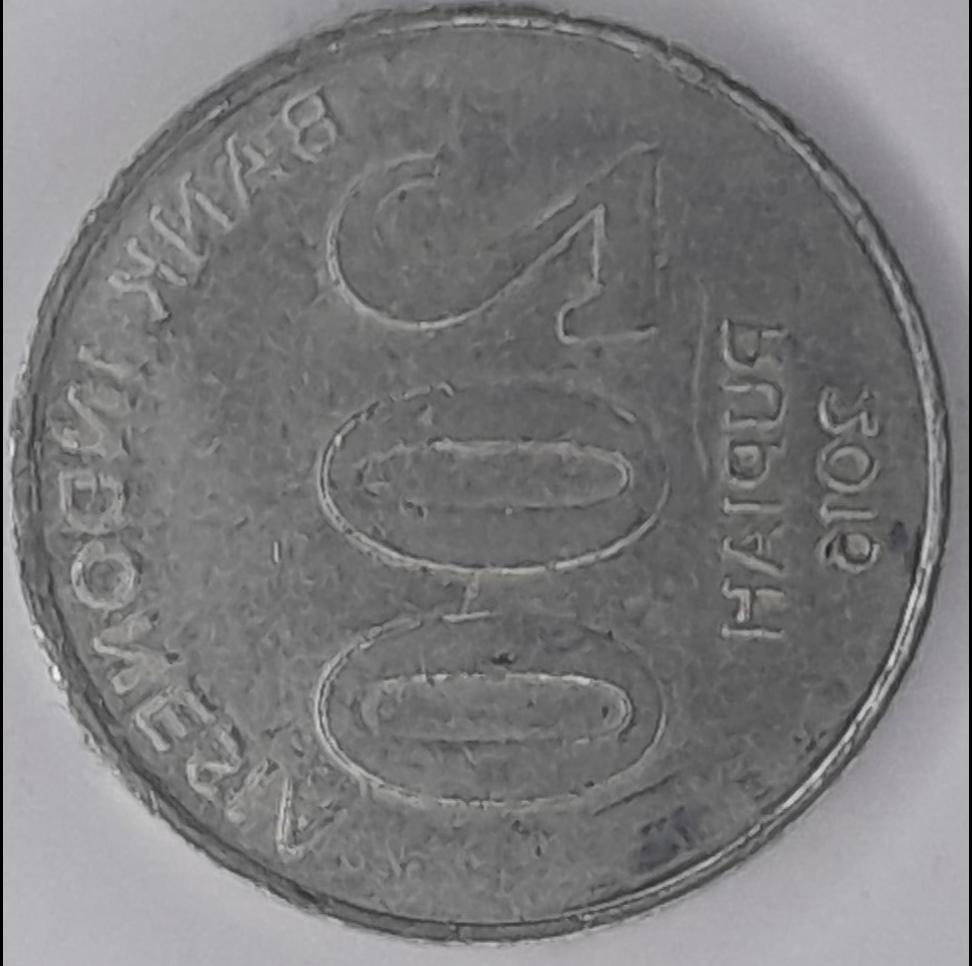coin_200_e2016: (0, 17, 972, 966)
